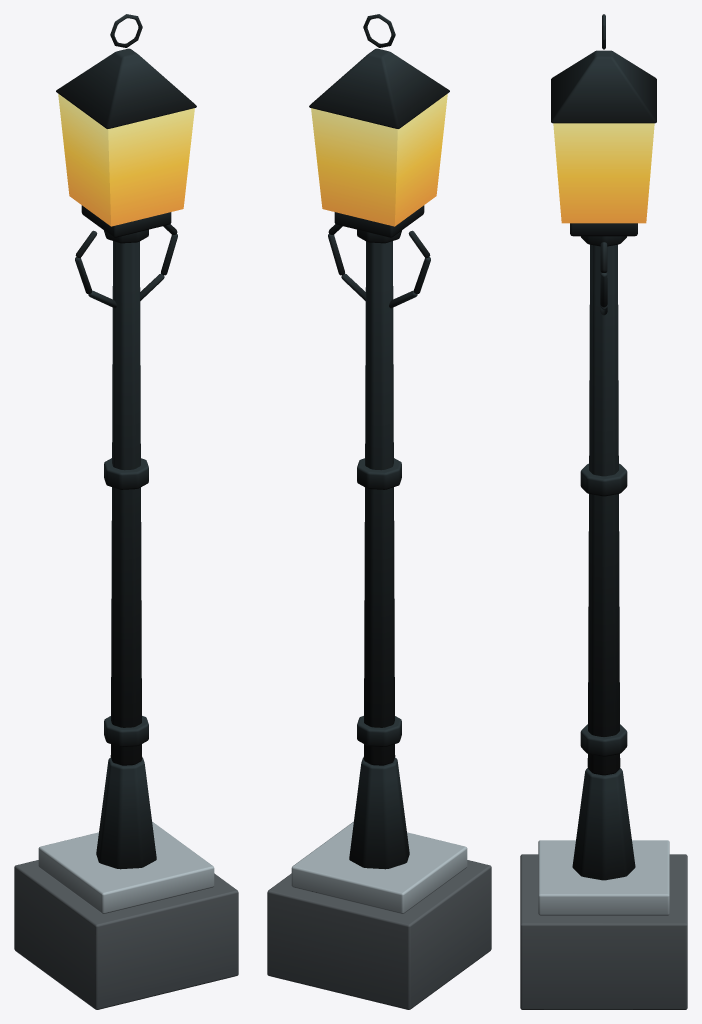
The model's file is lampward_lamp.glb.
The picture shows the model from 3 angles, left to right: view 1: azimuth 30°, elevation 25°; view 2: azimuth 150°, elevation 25°; view 3: azimuth 270°, elevation 25°; orthographic projection.
Visible parts, largest first — view 1: lampward_lamp; view 2: lampward_lamp; view 3: lampward_lamp.
Part boxes in pixels (bbox=[...]): lampward_lamp: bbox=[14, 14, 238, 1009]; lampward_lamp: bbox=[267, 14, 491, 1009]; lampward_lamp: bbox=[520, 14, 687, 1009].
Bounding box in the file's own units: 0.7 × 4.43 × 0.7.
2 materials, 2 textured.
